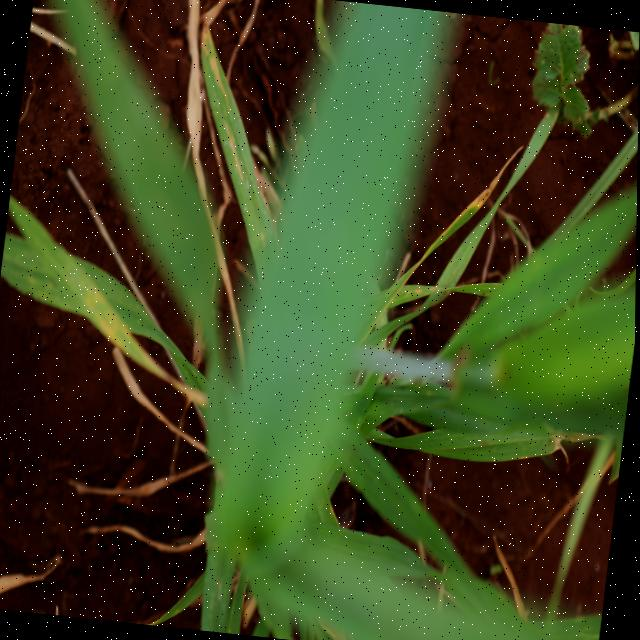healthy_wheat: (190, 0, 454, 597), (484, 185, 638, 441)
yellow_rust: (0, 221, 169, 391), (174, 17, 283, 264), (370, 147, 506, 316)
